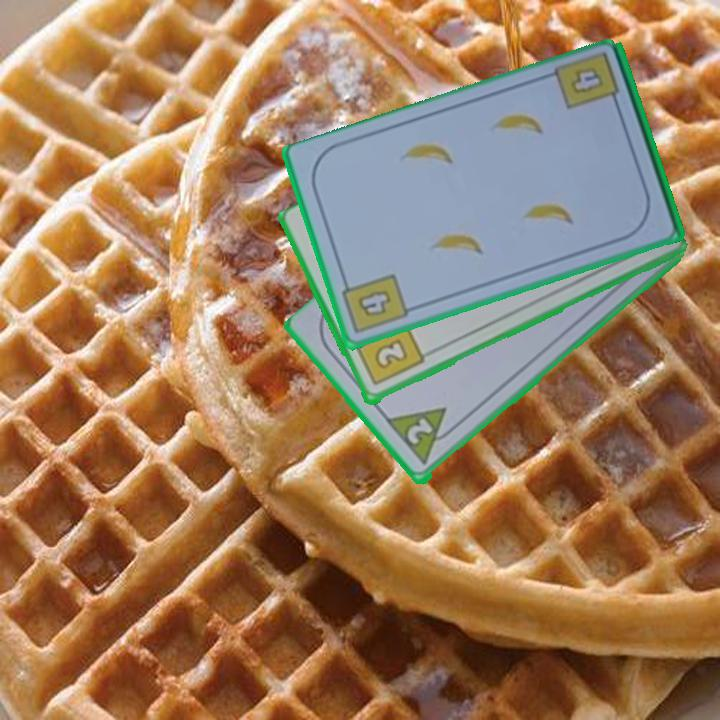2b: (351, 320, 427, 389)
2p: (403, 414, 436, 448)
4b: (338, 270, 411, 337), (566, 64, 607, 97)
